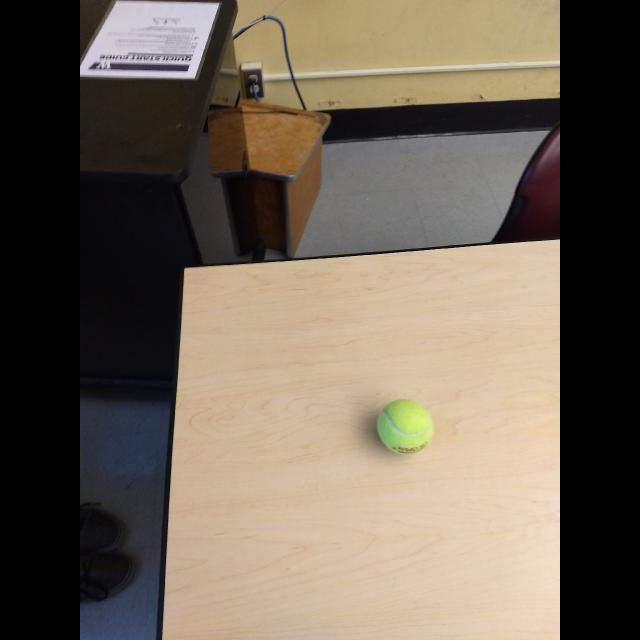tennis-ball: (376, 398, 433, 456)
